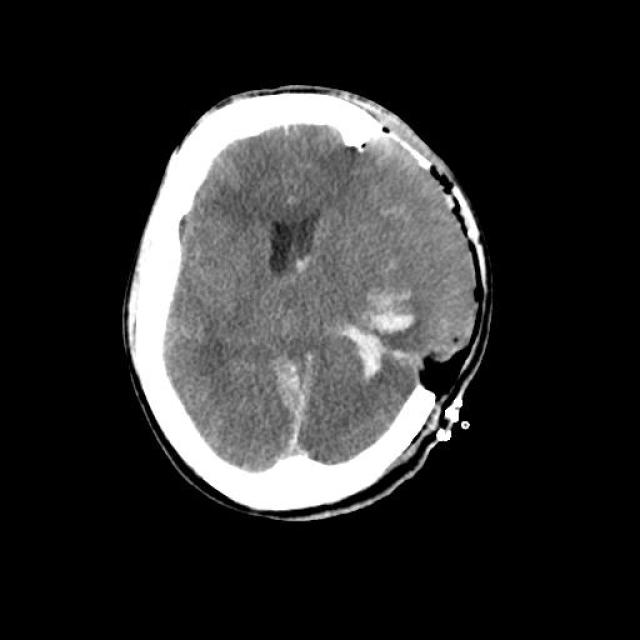Intraparenchymal: (324, 265, 426, 381), (246, 347, 302, 418)
Intraventricular: (256, 212, 328, 282)
Subdural: (288, 348, 338, 468)
